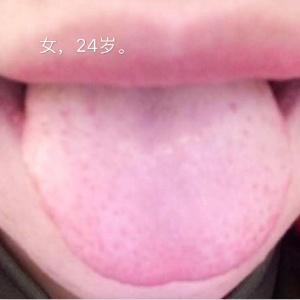st: (18, 90, 290, 281)
